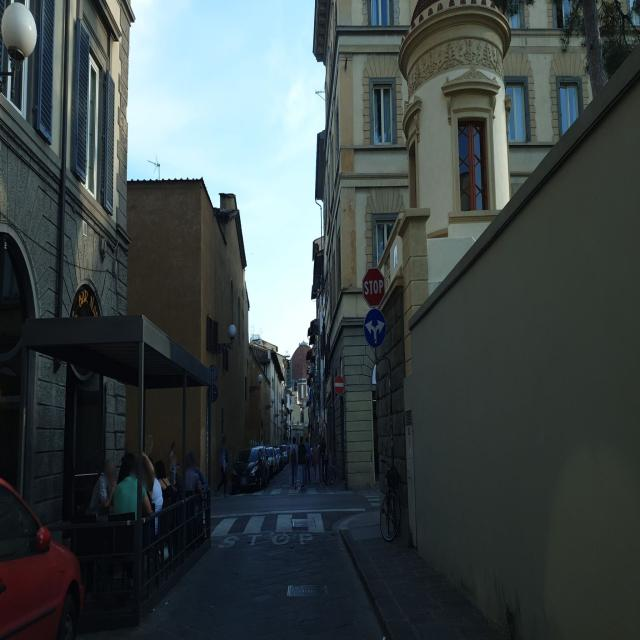bike: (378, 458, 402, 542)
car: (0, 462, 84, 639), (232, 446, 266, 494), (266, 446, 275, 477), (273, 445, 281, 472), (279, 442, 288, 466)
